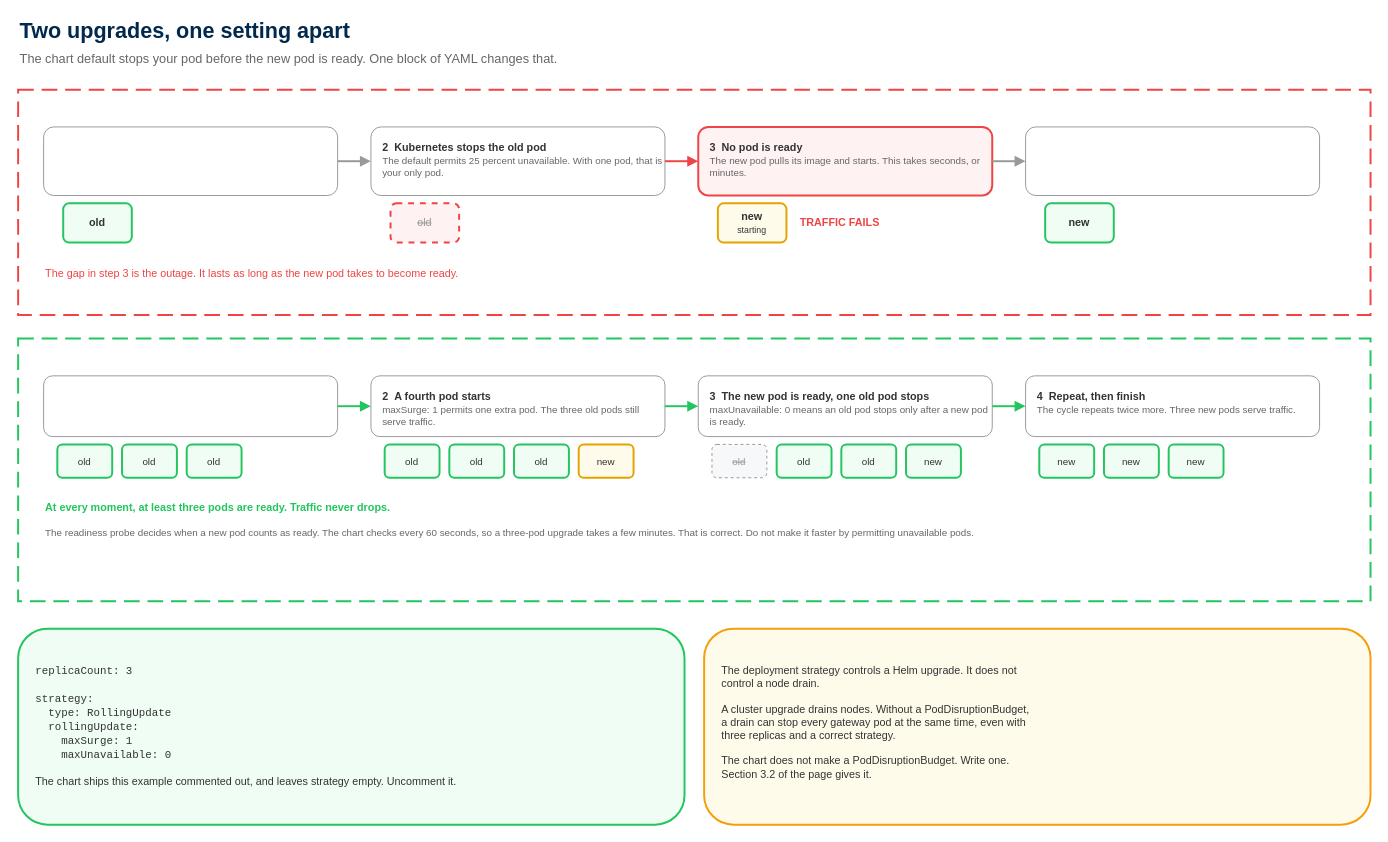
Image size: 1388x842. Some labels were removed from this diagram. Each missing label, with the box of its shape:
1 Before One pod. It serves all traffic.: (43, 126, 338, 196)
1 Before Three pods serve traffic.: (43, 375, 338, 437)
4 After Service returns.: (1025, 126, 1320, 196)
A node drain ignores all of this: (703, 627, 1371, 825)
The one block of YAML: (17, 627, 685, 825)
WITH THE CHART DEFAULTS — replicaCount: 1, strategy: {}: (17, 88, 1371, 316)
WITH THE SETTINGS IN SECTION 3 — replicaCount: 3, maxSurge: 1, maxUnavailable: 0: (17, 337, 1371, 602)
